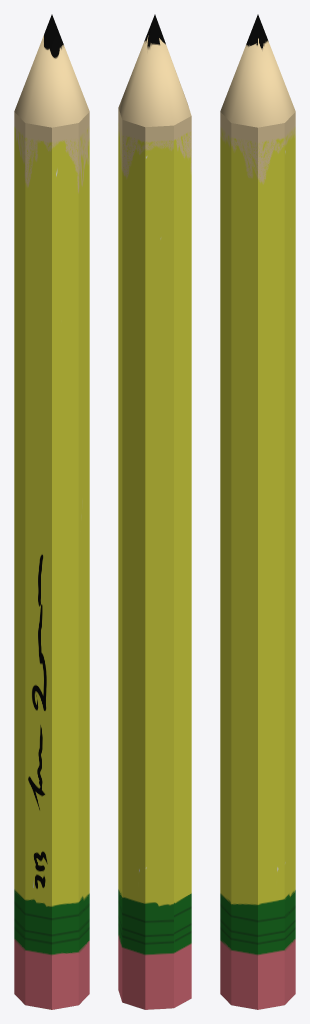
The model's file is Pencil.fbx.
3 views of the same model, side by side, from view 1: azimuth 90°, elevation 25°; view 2: azimuth 210°, elevation 25°; view 3: azimuth 270°, elevation 25° (orthographic).
Visible parts, largest first — view 1: pCylinder1; view 2: pCylinder1; view 3: pCylinder1.
Boxes of the visible parts, x1,y1,x2,y2 form: pCylinder1: (14, 14, 89, 1009); pCylinder1: (118, 14, 191, 1009); pCylinder1: (220, 14, 295, 1009).
Bounding box in the file's own units: 0.1663 × 2.38 × 0.1663.
Materials: 1 (1 with a texture image).
